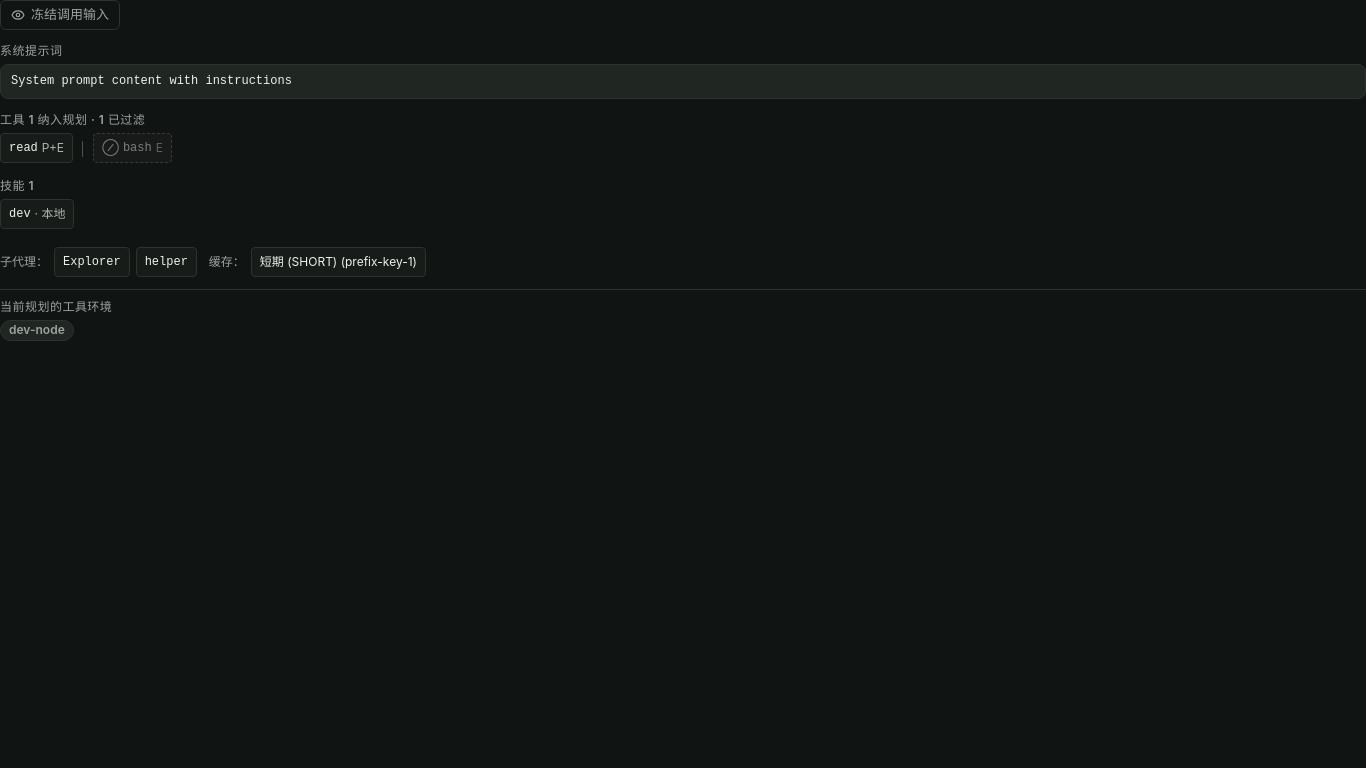
Test: ThreadModelRequestDebug & Inspector › Subagents and Cache inspection › renders subagent chips as clickable buttons, opens subagent inspector with non-recursive tools, skill package/name, subagents and canonical configuration JSON
This screenshot has width=1366, height=768.
Expected: the button with aria-label "子代理 helper" is shown, left=136, top=247, right=197, bottom=277
Click the button with aria-label "子代理 Explorer".
click(92, 262)  # box left=54, top=247, right=130, bottom=277
(page scrolled)
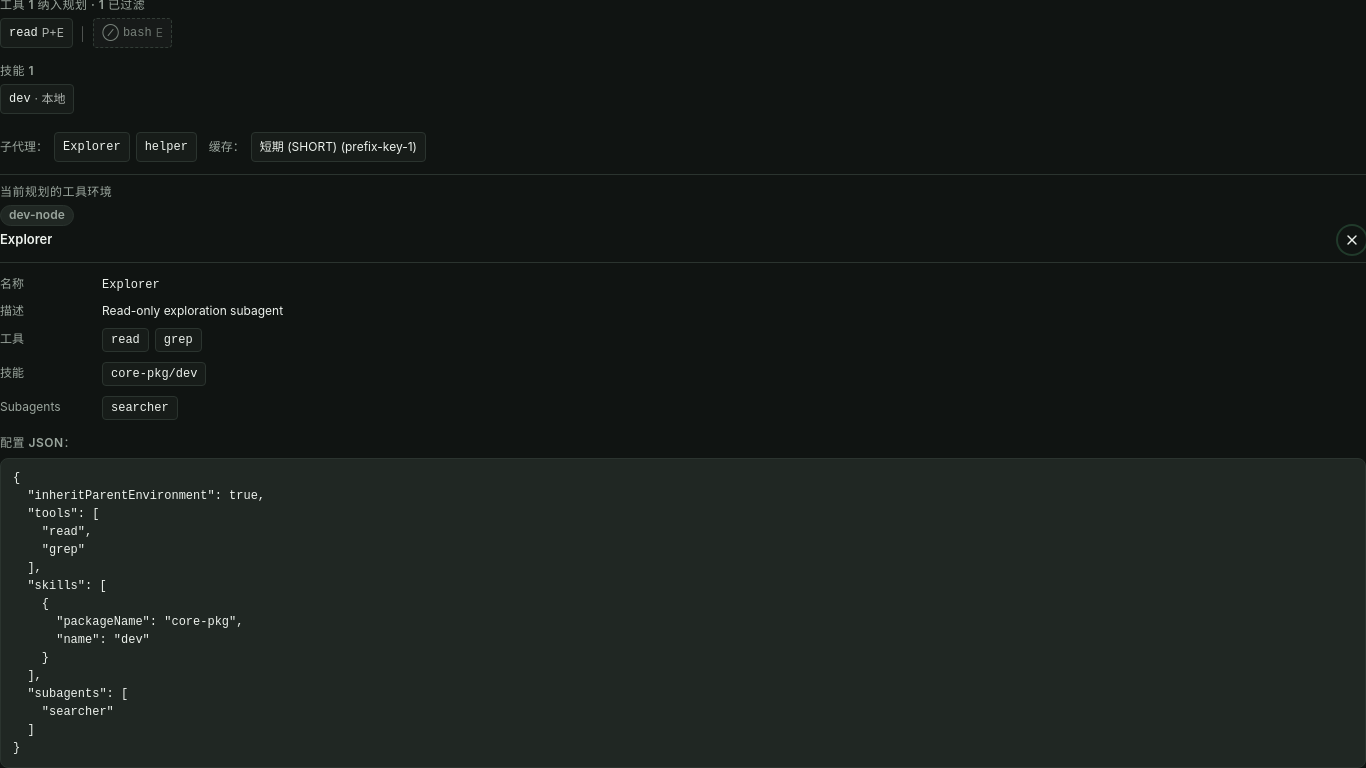
Expected: the heading "Explorer" is shown, left=0, top=230, right=52, bottom=250
Expected: the text "名称" is shown, left=0, top=276, right=24, bottom=291
Expected: the text "描述" is shown, left=0, top=303, right=24, bottom=318
Note: 按 Escape 关闭
Press Escape
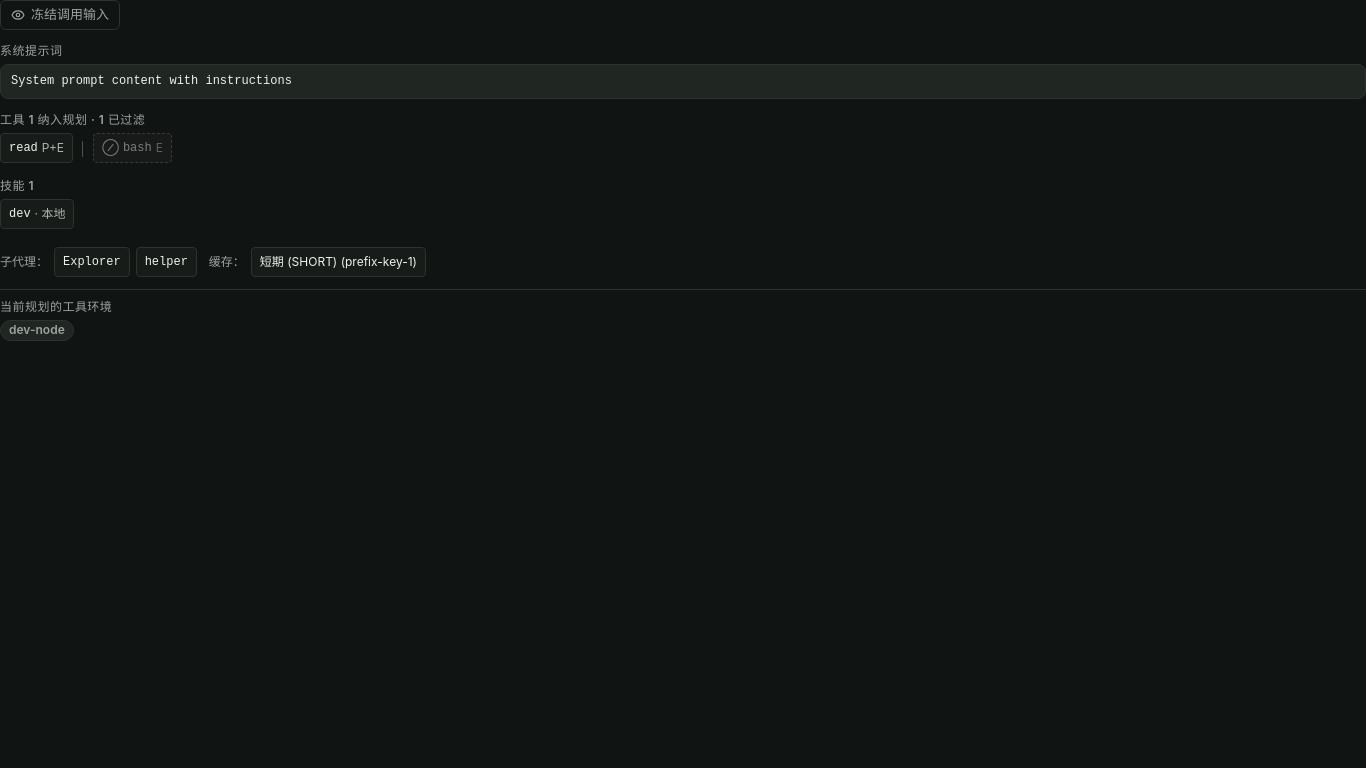
Expected: the element with test id "thread-debug-inspector" is gone
